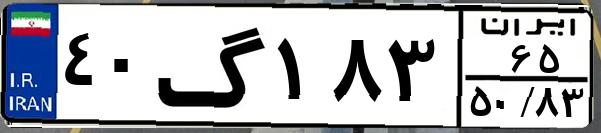0: (110, 28, 156, 98), (495, 70, 520, 125)
1: (270, 28, 330, 110)
3: (385, 28, 445, 110), (560, 70, 590, 125)
4: (57, 26, 110, 100)
5: (537, 27, 568, 80), (470, 70, 495, 125)
6: (508, 27, 537, 80)
8: (330, 28, 385, 110), (535, 70, 560, 125)
گ: (156, 12, 270, 120)
